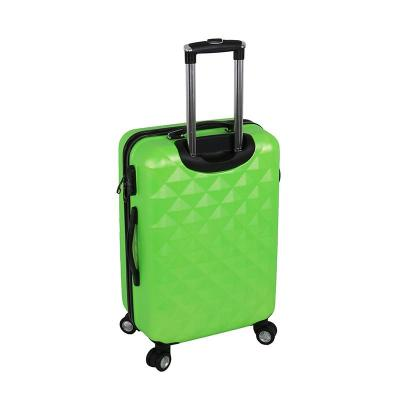suitcase: (115, 32, 283, 371)
